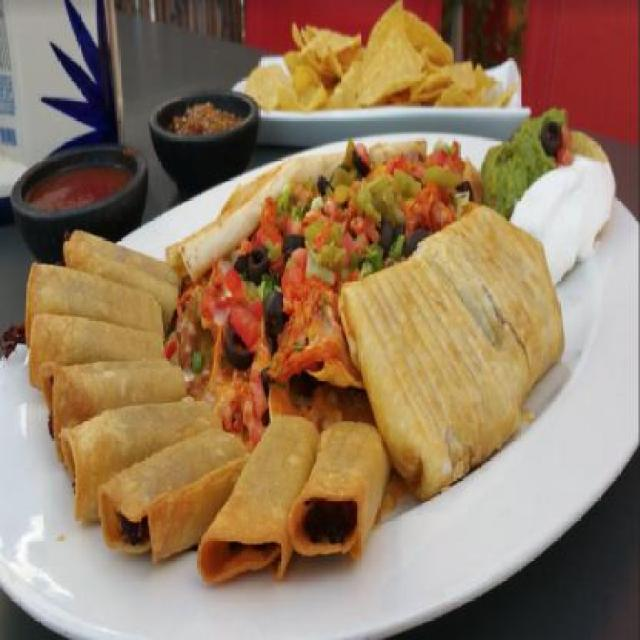breakfast burrito: (338, 182, 567, 504)
chicken quesadilla: (166, 130, 426, 276)
guacamole: (477, 118, 571, 217)
nachos: (236, 6, 521, 111), (272, 351, 366, 418)
spring rolls: (21, 218, 387, 580)
